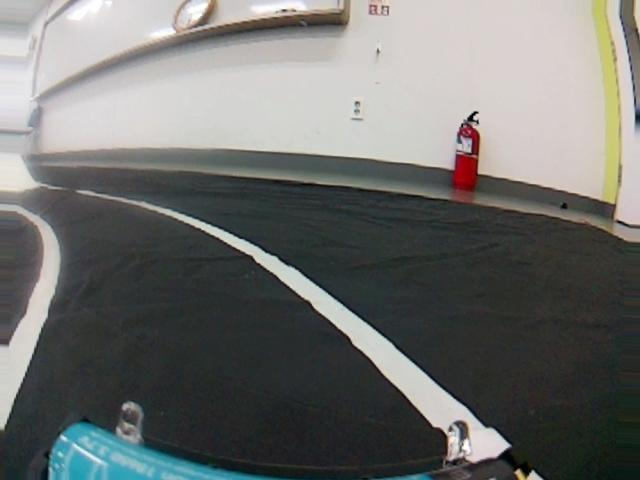left: (0, 191, 611, 479)
